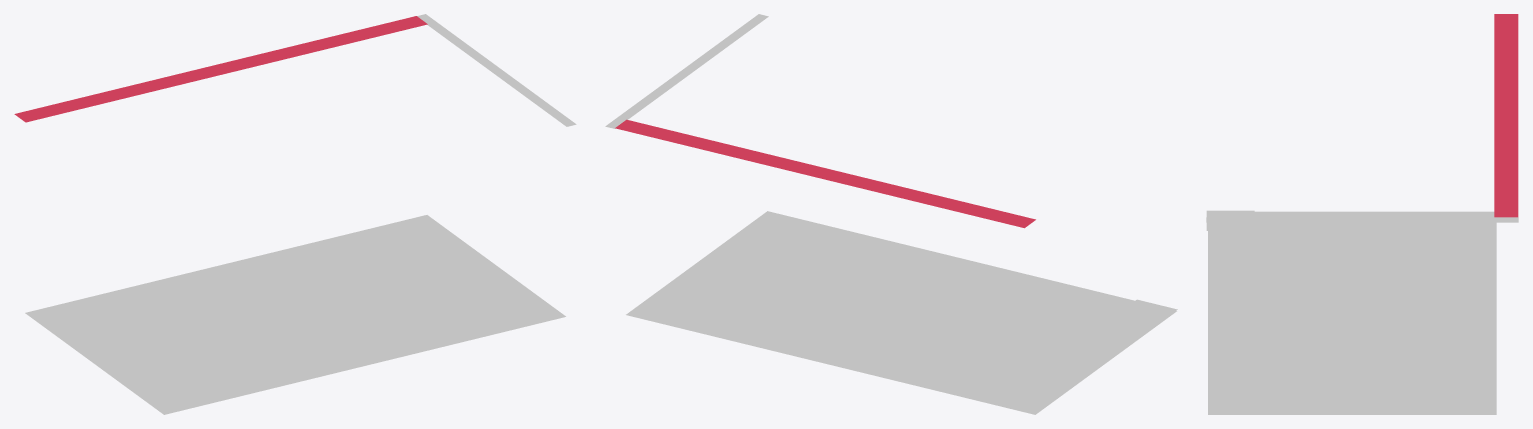
Rendered from room.glb.
The picture shows the model from 3 angles, left to right: view 1: azimuth 30°, elevation 25°; view 2: azimuth 150°, elevation 25°; view 3: azimuth 270°, elevation 25°; orthographic projection. The views are drawn at different scales.
Parts seen in each view (by area): view 1: Plane.001, Plane.004, Plane.003, Plane.002; view 2: Plane.001, Plane.004, Plane.003, Plane.002; view 3: Plane.001, Plane.004, Plane.003, Plane.002.
Part boxes in pixels (x1=…): Plane.001: x1=25, y1=215, x2=565, y2=414; Plane.004: x1=14, y1=16, x2=427, y2=122; Plane.003: x1=417, y1=14, x2=576, y2=126; Plane.002: x1=142, y1=387, x2=204, y2=414; Plane.001: x1=626, y1=211, x2=1176, y2=414; Plane.004: x1=615, y1=119, x2=1035, y2=228; Plane.003: x1=605, y1=14, x2=768, y2=128; Plane.002: x1=1113, y1=299, x2=1177, y2=326; Plane.001: x1=1208, y1=211, x2=1496, y2=414; Plane.004: x1=1494, y1=14, x2=1518, y2=217; Plane.003: x1=1206, y1=217, x2=1518, y2=222; Plane.002: x1=1206, y1=210, x2=1254, y2=230.
Bounding box in the file's own units: 4.09 × 1.82 × 2.6.
